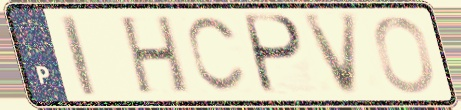C: (183, 14, 249, 96)
H: (118, 13, 192, 98)
I: (56, 11, 101, 99)
O: (371, 14, 438, 96)
P: (243, 12, 308, 99)
V: (300, 10, 362, 99)
